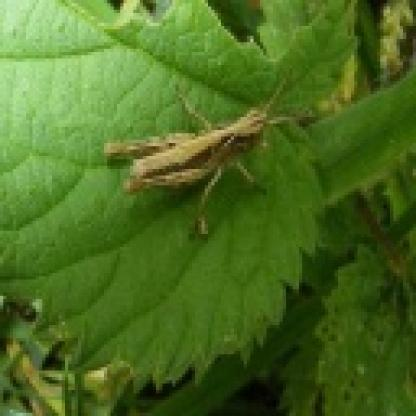grasshopper: (100, 72, 306, 242)
